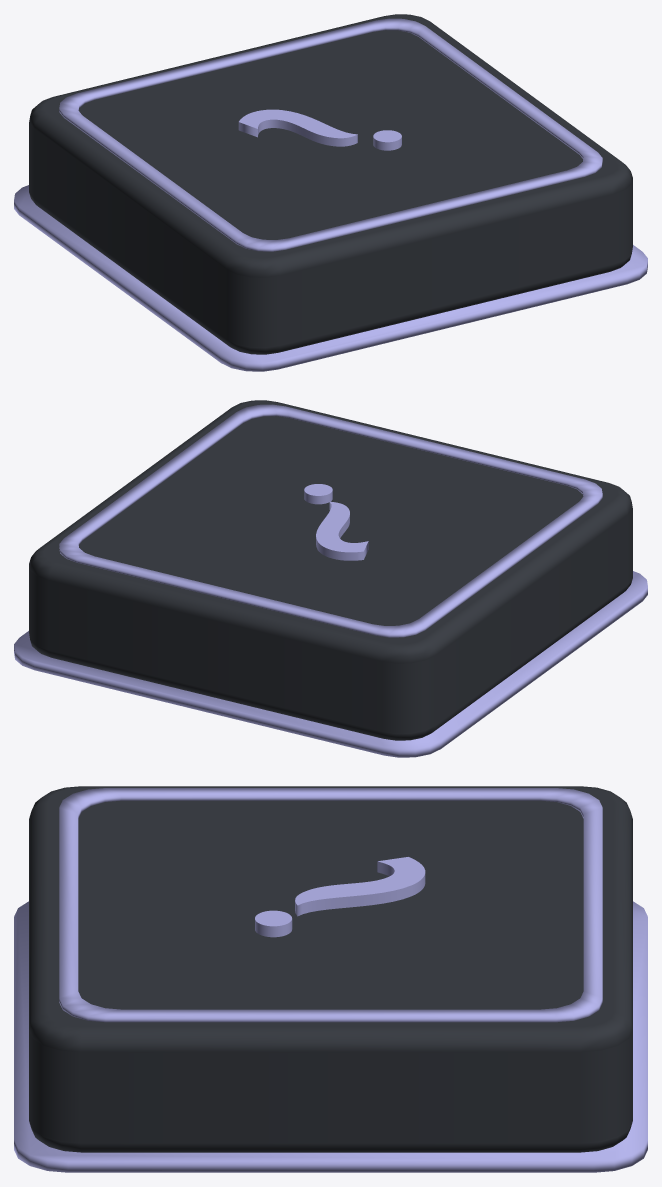
File: decision.glb
3 renders of one model, top to bottom at view 1: azimuth 30°, elevation 25°; view 2: azimuth 150°, elevation 25°; view 3: azimuth 270°, elevation 25°, orthographic. The views are drawn at different scales.
Visible parts, largest first — view 1: module, edge, rim, glyph; view 2: module, edge, rim, glyph; view 3: module, edge, rim, glyph.
Boxes of the visible parts, x1,y1,x2,y2 form: module: (29,14,632,354); edge: (59,18,602,251); rim: (14,185,647,371); glyph: (238,109,401,150); module: (29,400,632,740); edge: (59,404,602,637); rim: (14,571,647,757); glyph: (304,484,368,560); module: (29,786,632,1152); edge: (59,788,602,1022); rim: (14,901,647,1172); glyph: (255,857,425,937).
Bounding box in the file's own units: 0.735 × 0.182 × 0.735.
